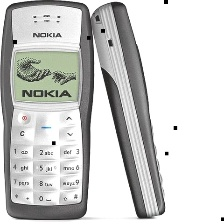phone: (0, 0, 97, 224), (87, 0, 167, 220)
